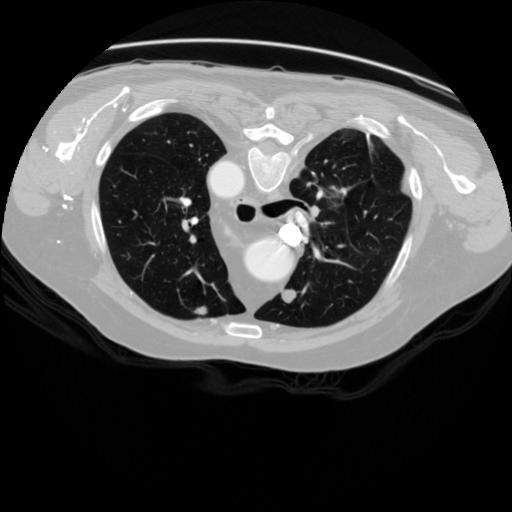nodule: (194, 304, 210, 320)
